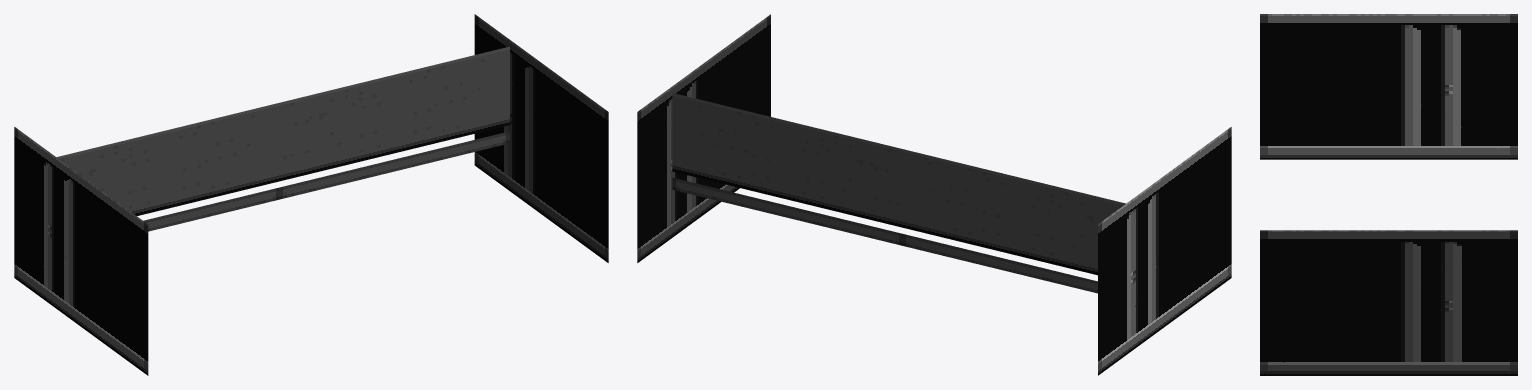
File: surface2_secondary_035.glb
3 views of the same model, side by side, from view 1: azimuth 30°, elevation 25°; view 2: azimuth 150°, elevation 25°; view 3: azimuth 270°, elevation 25° (orthographic). The views are drawn at different scales.
Visible parts, largest first — view 1: Object; view 2: Object; view 3: Object.
Part boxes in pixels (x1,y1,x2,y2): Object: (14,14,608,375); Object: (637,14,1231,375); Object: (1260,14,1517,375).
Size of the model in its own units: 3.36 by 1.06 by 1.69.
3 materials, 3 textured.
